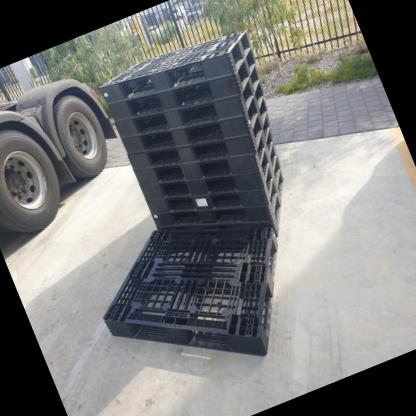BoxFace: (105, 49, 256, 119)
